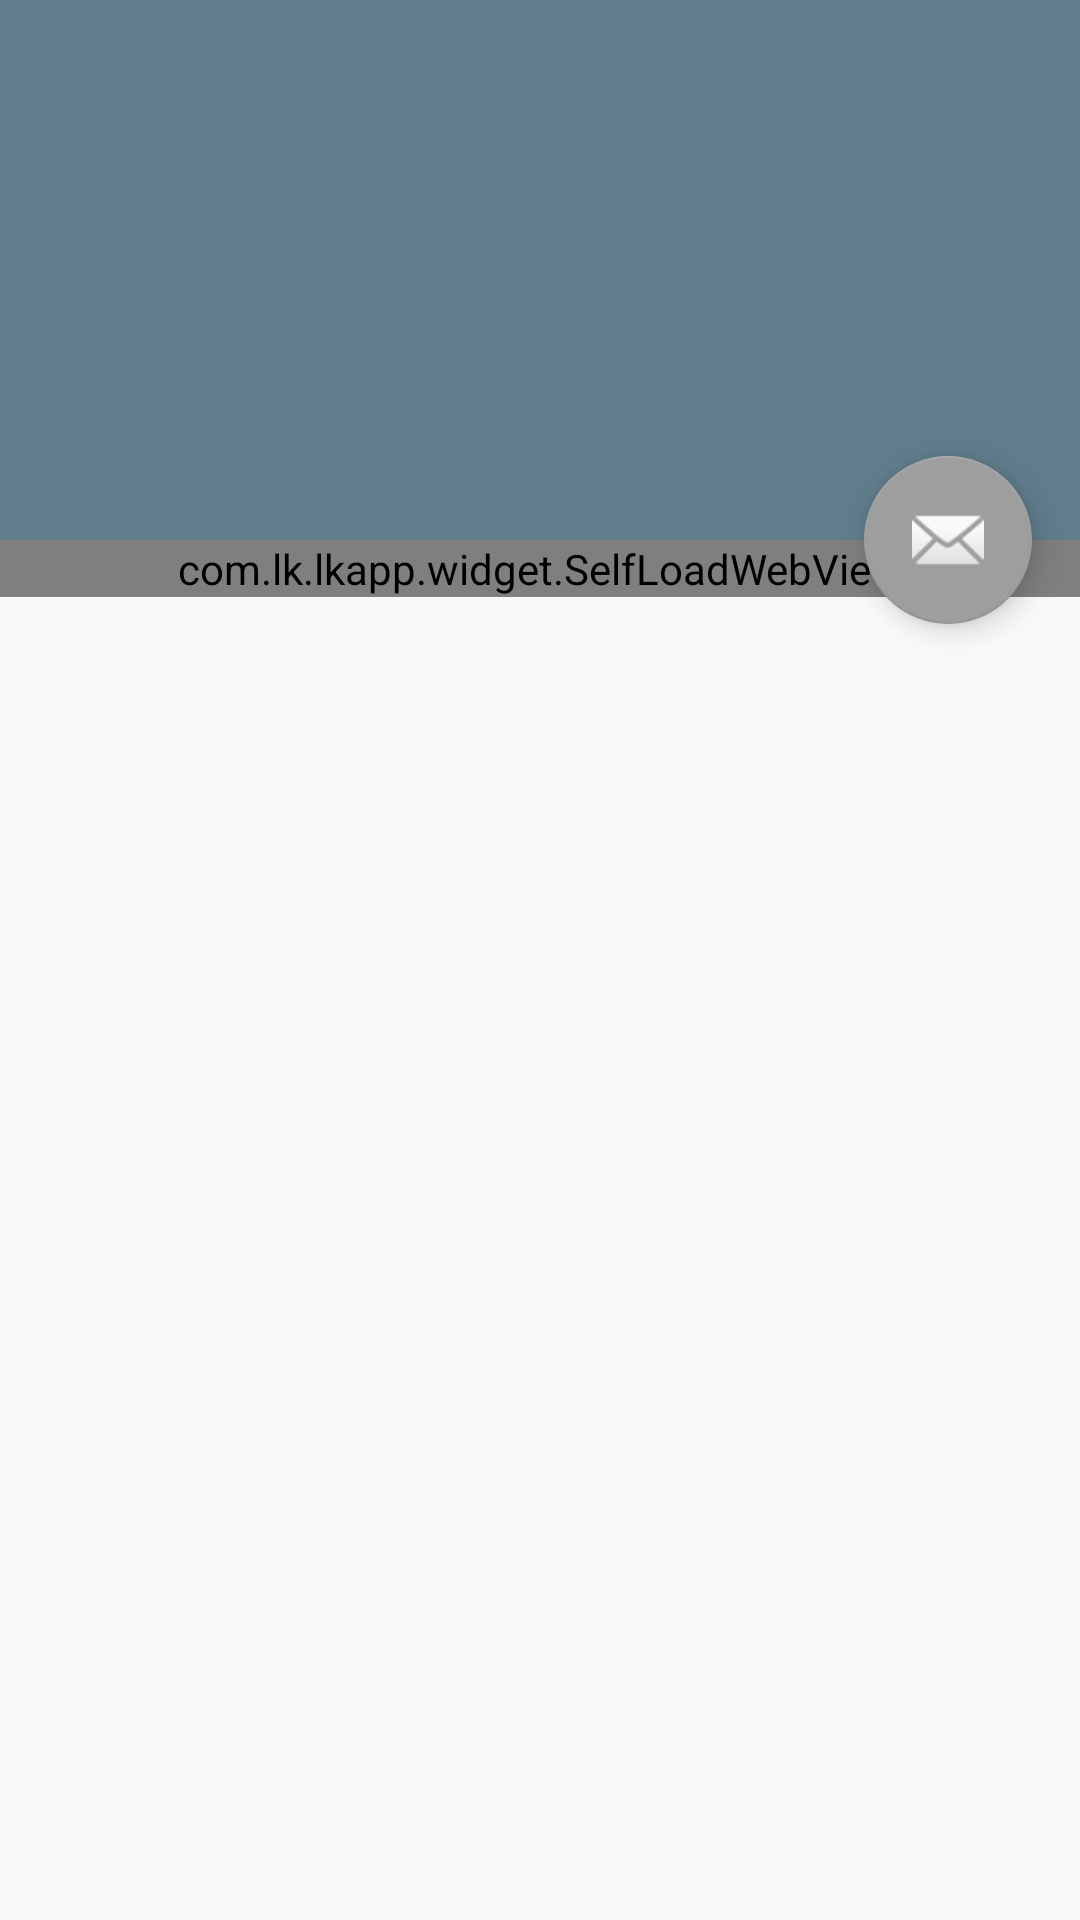

Point at icon controls on the screen. Image size 1080 x 1920, points as [x,y].
email: [948,540]
